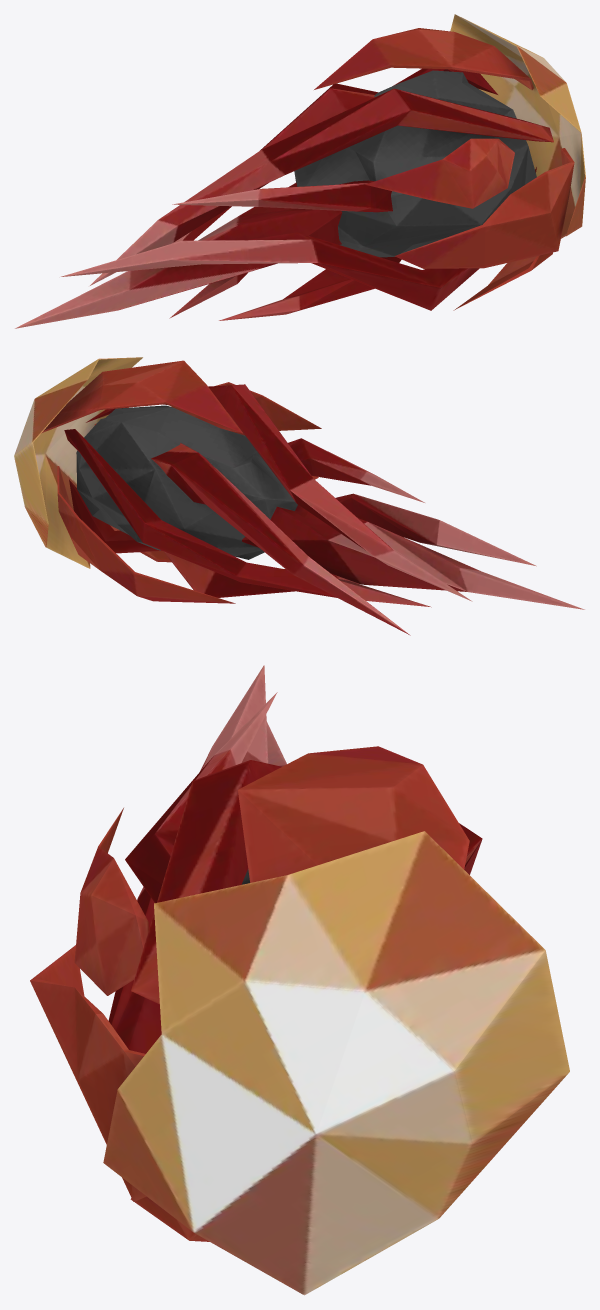
File: comet.glb
The picture shows the model from 3 angles, top to bottom: view 1: azimuth 30°, elevation 25°; view 2: azimuth 150°, elevation 25°; view 3: azimuth 270°, elevation 25°; orthographic projection. The views are drawn at different scales.
Visible parts, largest first — view 1: Node; view 2: Node; view 3: Node.
Part boxes in pixels (x1=…): Node: x1=15, y1=14, x2=585, y2=328; Node: x1=14, y1=357, x2=584, y2=635; Node: x1=30, y1=665, x2=569, y2=1295.
Size of the model in its own units: 1.26 by 0.4956 by 0.5512.
1 material, 1 textured.
